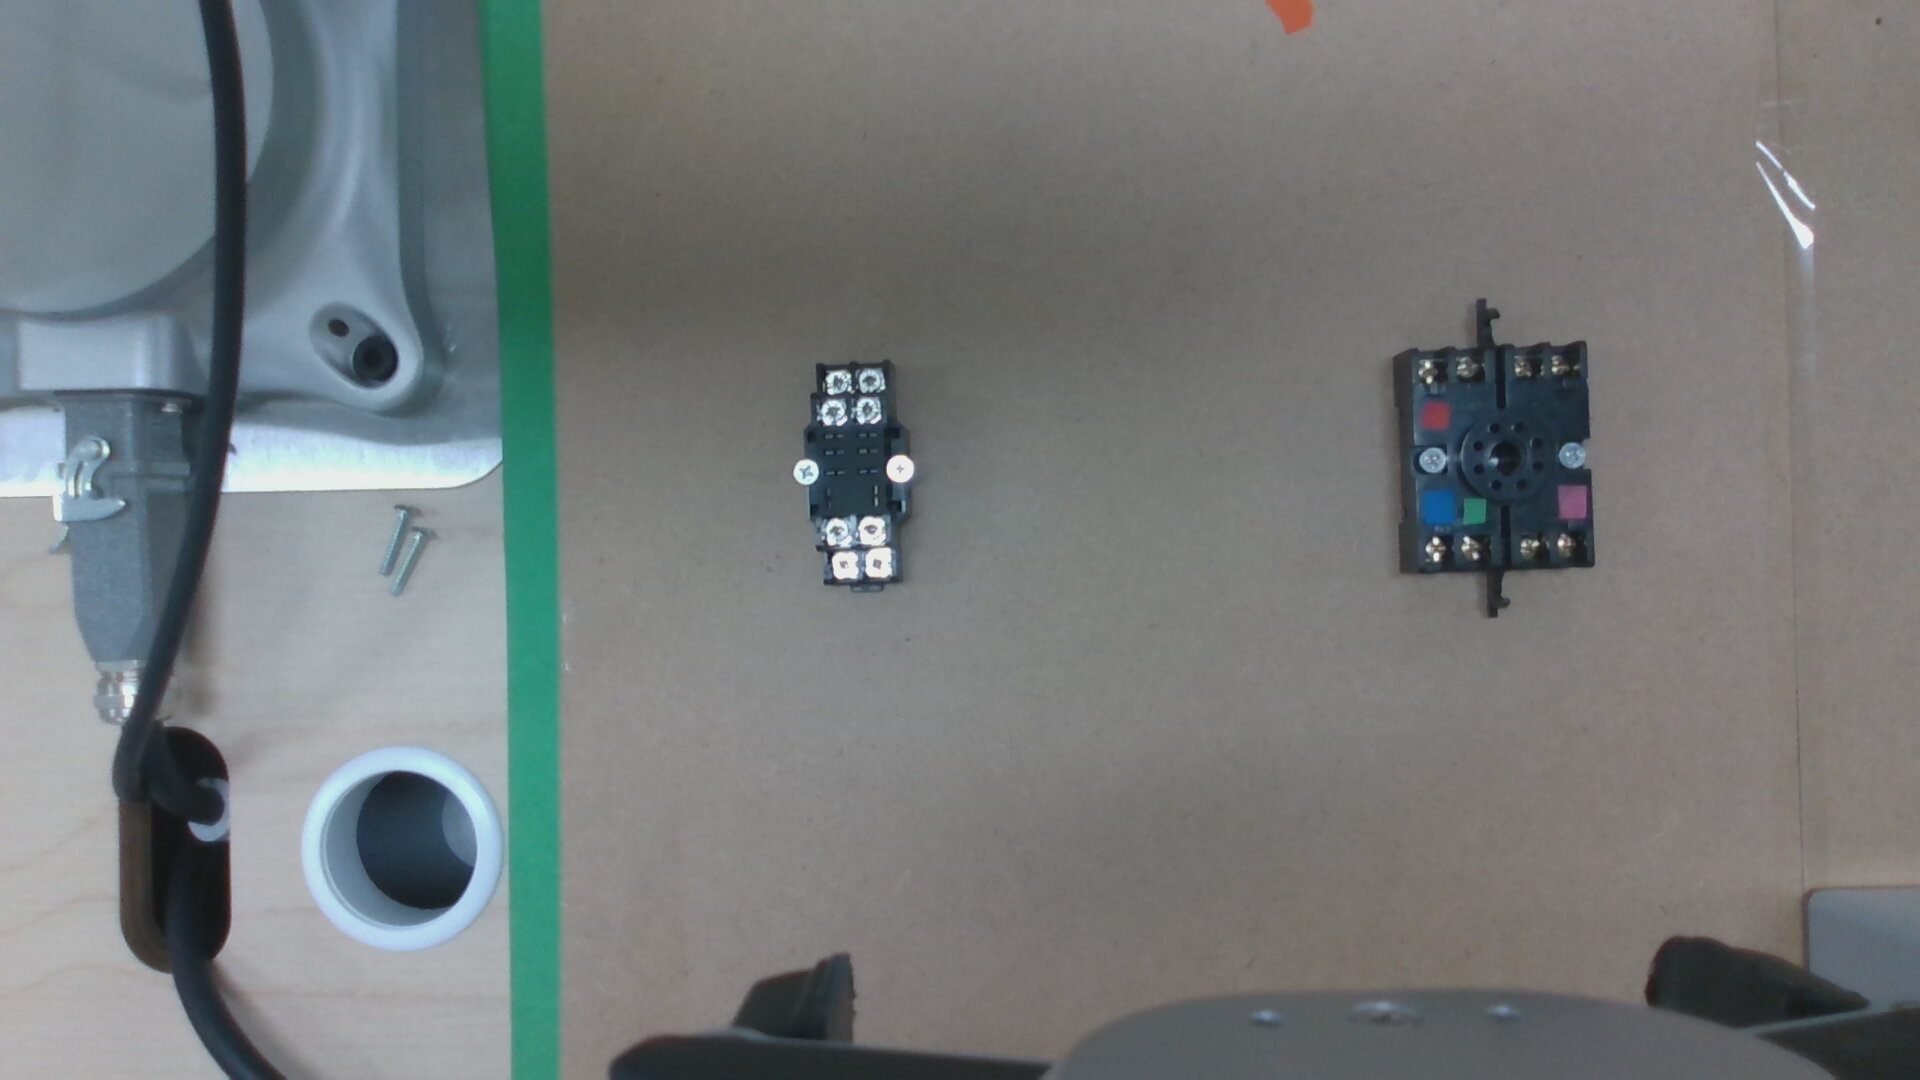relay 3: (858, 368, 882, 390)
relay 4: (824, 372, 851, 392)
relay 5: (864, 551, 889, 574)
relay 6: (832, 555, 857, 578)
relay 7: (858, 518, 884, 543)
relay 8: (822, 520, 851, 545)
